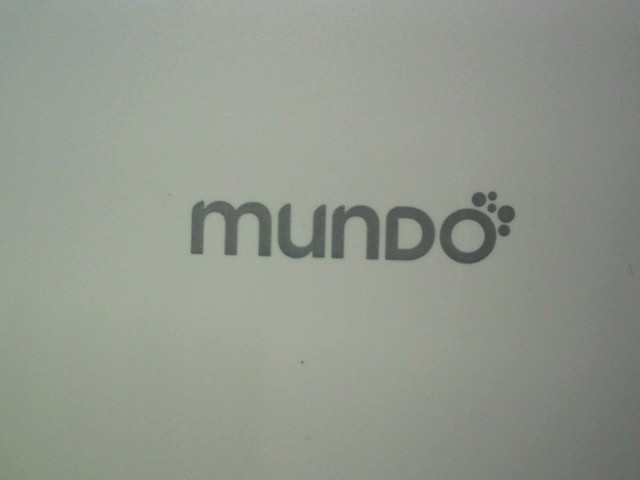BI_MUNDO: (176, 180, 519, 280)
